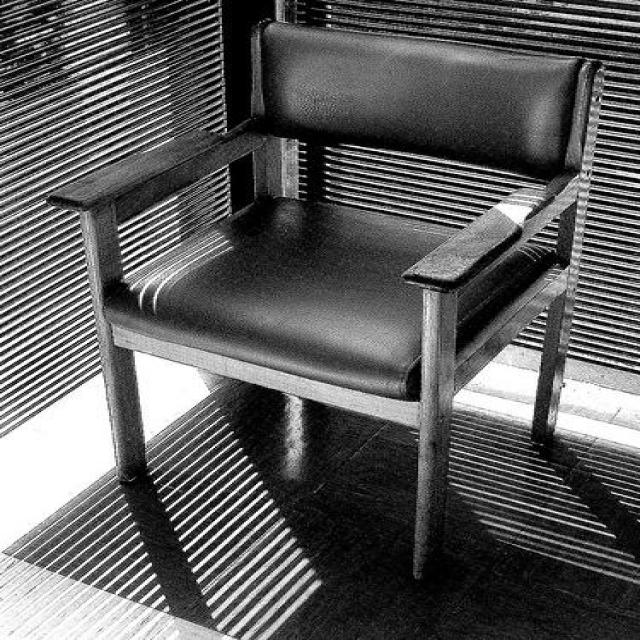chair: (41, 15, 604, 593)
